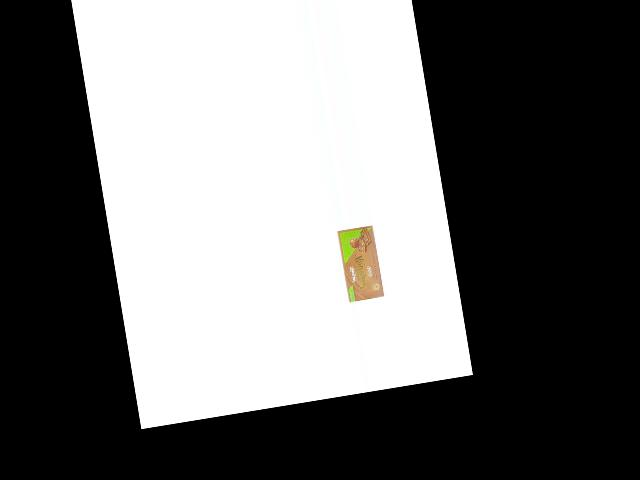chocolate: (334, 224, 386, 305)
